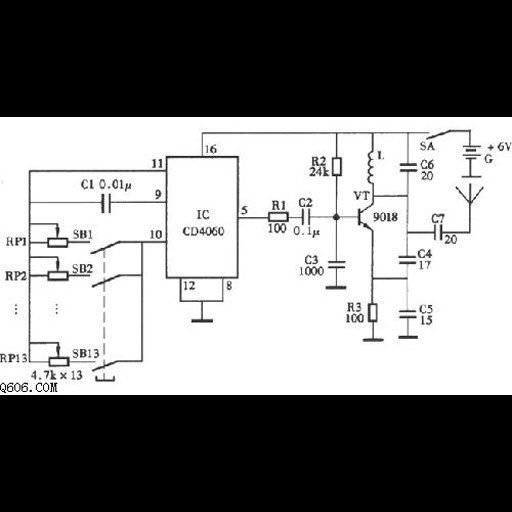battery: (458, 140, 494, 164)
capacitor: (326, 257, 351, 273), (297, 207, 317, 226), (97, 192, 114, 214), (395, 160, 418, 176), (395, 253, 416, 270), (428, 222, 444, 243), (397, 307, 418, 322)
firstresistance: (265, 209, 292, 224), (330, 153, 346, 178), (366, 299, 381, 325)
inductor: (363, 147, 376, 186)
npn: (353, 202, 376, 234)
